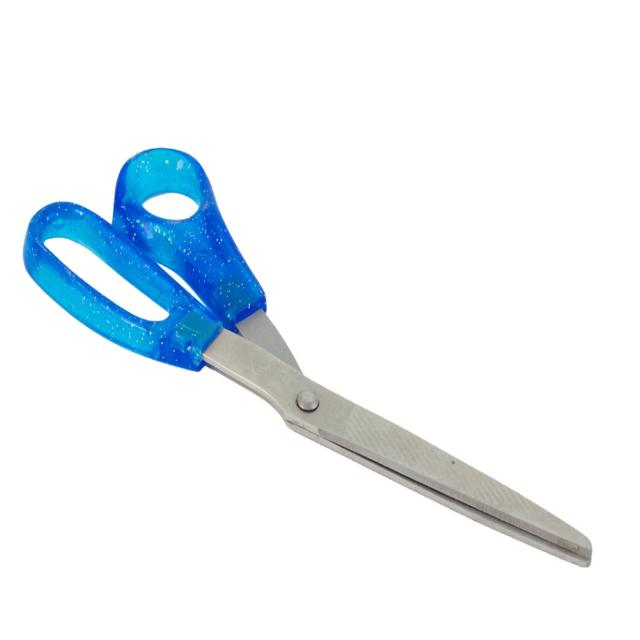scissors: (22, 145, 592, 568)
